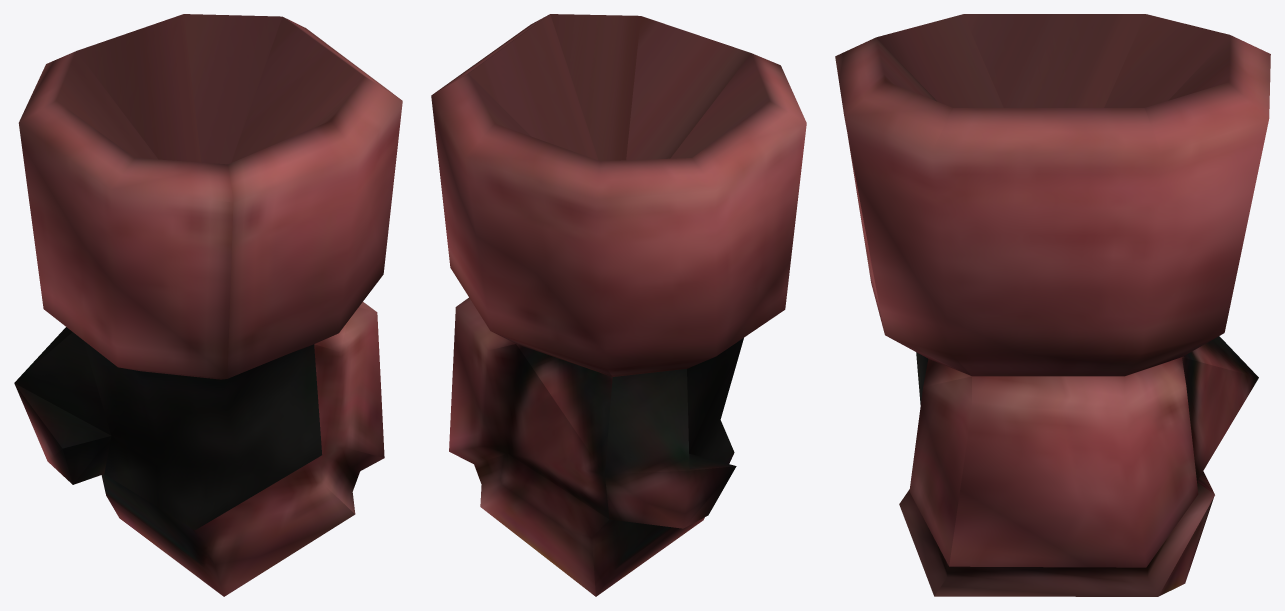
Rendered from brawlerGauntletR_R.glb.
3 views of the same model, side by side, from view 1: azimuth 30°, elevation 25°; view 2: azimuth 150°, elevation 25°; view 3: azimuth 270°, elevation 25° (orthographic). The views are drawn at different scales.
Parts seen in each view (by area): view 1: brawlerGauntletR_R; view 2: brawlerGauntletR_R; view 3: brawlerGauntletR_R.
Part boxes in pixels (x1,y1,x2,y2): brawlerGauntletR_R: (14,14,402,596); brawlerGauntletR_R: (431,14,806,596); brawlerGauntletR_R: (835,14,1270,596).
Size of the model in its own units: 0.1213 by 0.1936 by 0.1369.
1 material, 1 textured.
